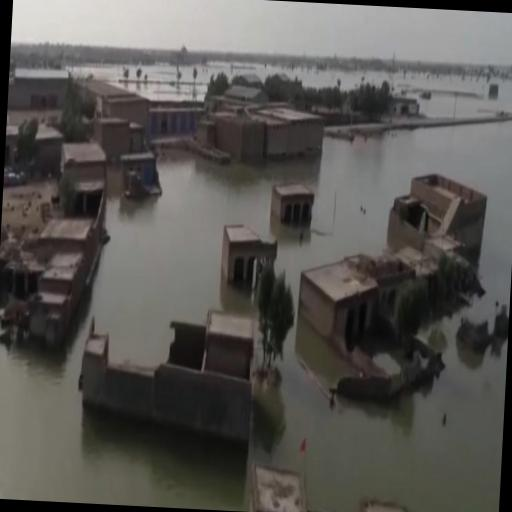flood: (0, 122, 512, 512), (196, 61, 512, 102), (71, 64, 192, 100), (420, 93, 512, 118), (141, 65, 176, 80), (180, 66, 194, 80)
house: (8, 204, 102, 354), (246, 460, 445, 512), (384, 169, 492, 255), (302, 255, 382, 361), (209, 98, 317, 170), (201, 308, 258, 386), (220, 216, 276, 290), (57, 142, 111, 210), (270, 178, 320, 232), (10, 67, 70, 111), (150, 96, 204, 140), (353, 492, 446, 512)
